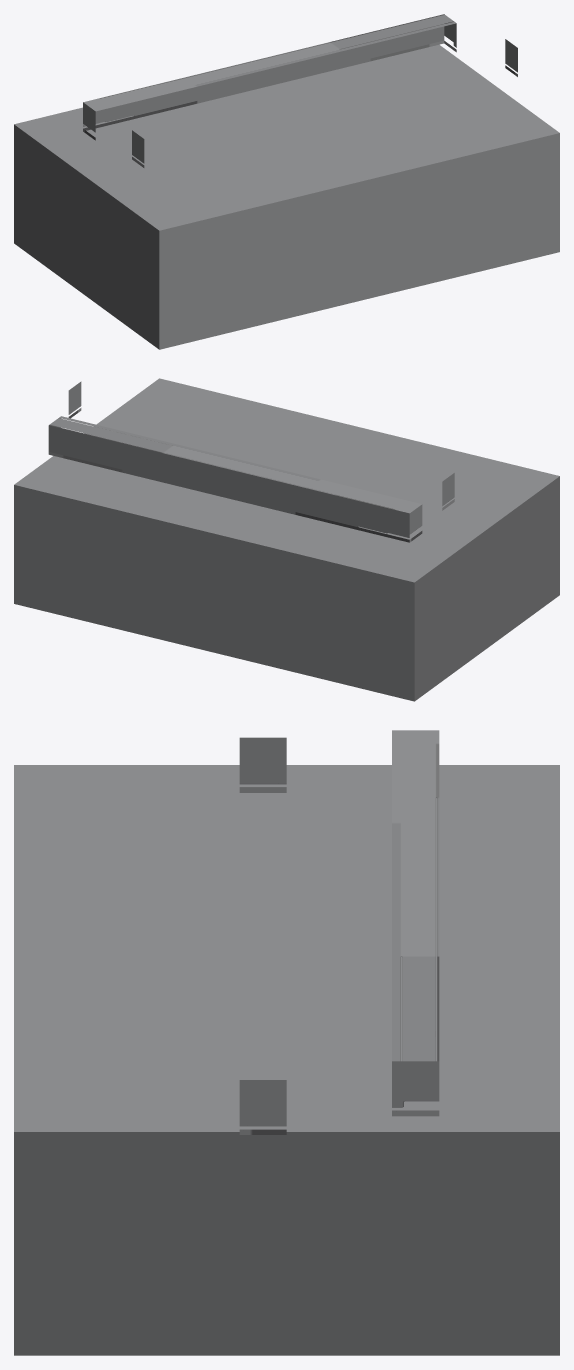
3 views of the same model, one above another, from view 1: azimuth 30°, elevation 25°; view 2: azimuth 150°, elevation 25°; view 3: azimuth 270°, elevation 25° (orthographic). The views are drawn at different scales.
Size of the model in its own units: 0.8742 by 0.3106 by 0.5259.
